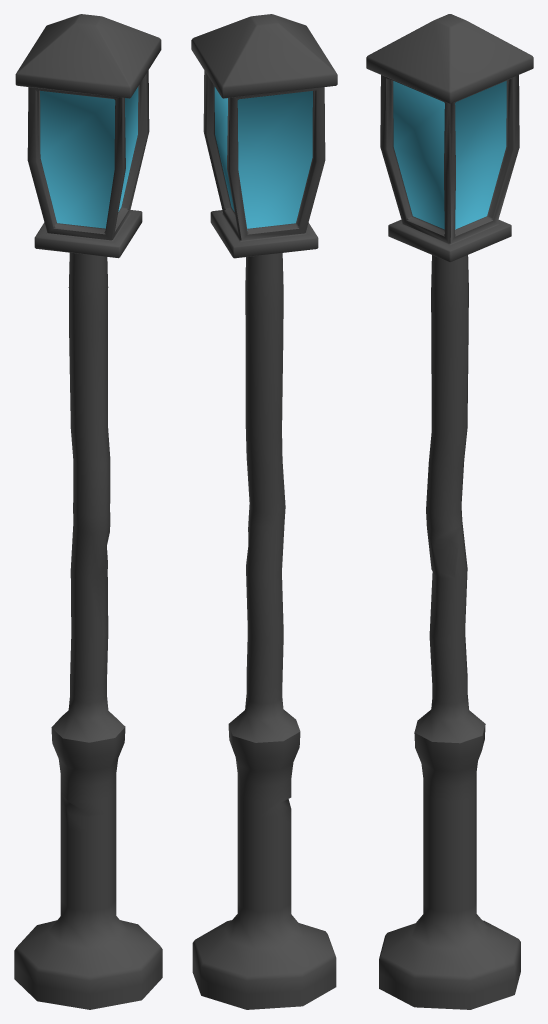
File: StreetLamp_metalv2.fbx
3 views of the same model, side by side, from view 1: azimuth 30°, elevation 25°; view 2: azimuth 150°, elevation 25°; view 3: azimuth 270°, elevation 25° (orthographic).
Visible parts, largest first — view 1: Metal_StreetLamp1; view 2: Metal_StreetLamp1; view 3: Metal_StreetLamp1.
Part boxes in pixels (x1,y1,x2,y2): Metal_StreetLamp1: (14, 14, 162, 1009); Metal_StreetLamp1: (191, 14, 337, 1009); Metal_StreetLamp1: (366, 14, 533, 1009).
Bounding box in the file's own units: 43.64 × 276 × 43.64.
